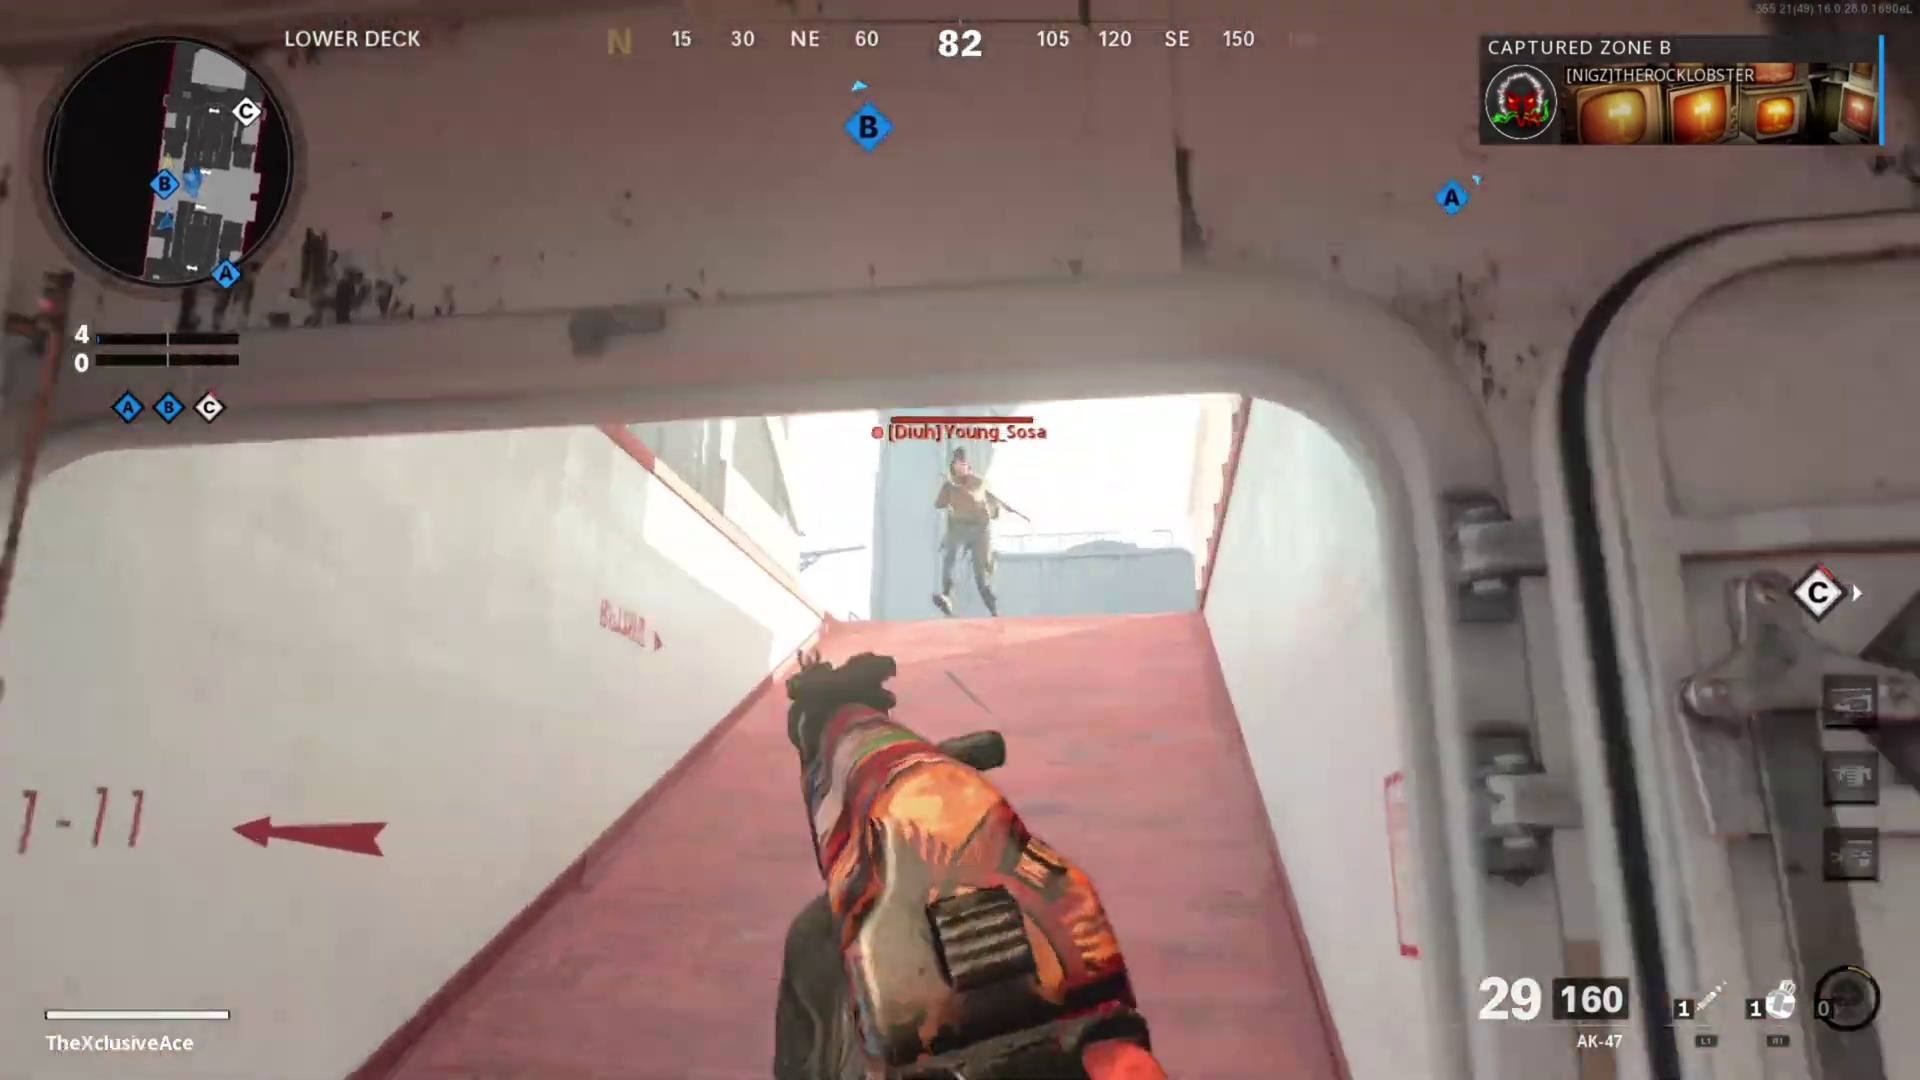head: (947, 454, 978, 491)
person: (928, 449, 1025, 610)
